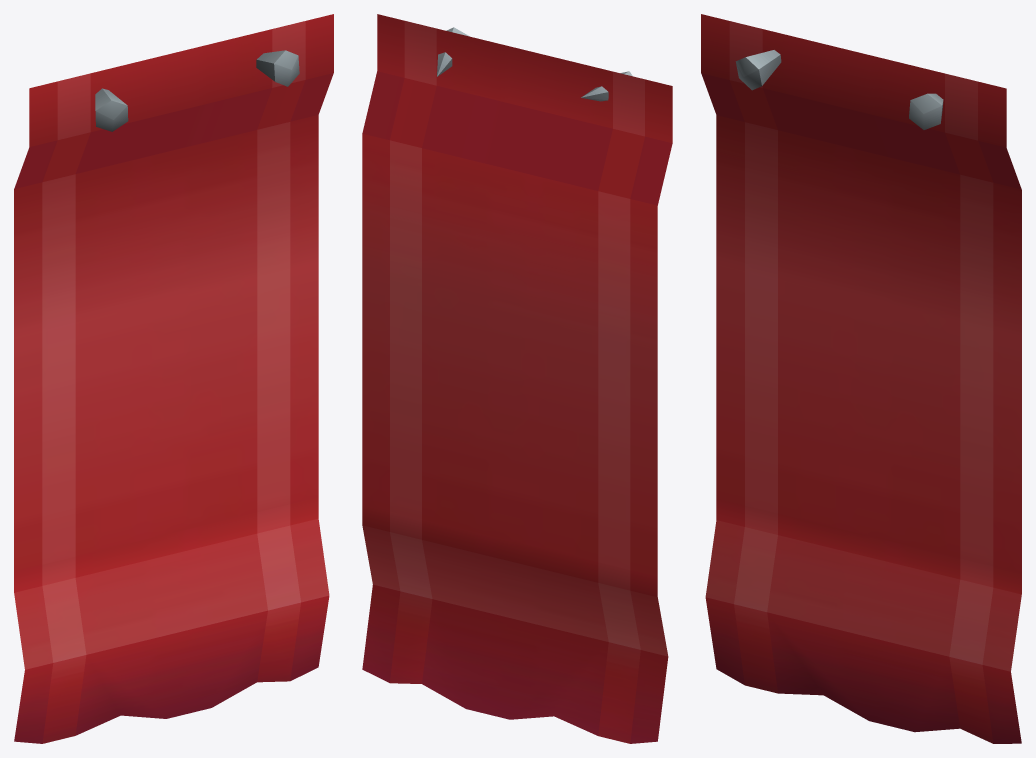
The model's file is banner_red.glb.
3 views of the same model, side by side, from view 1: azimuth 30°, elevation 25°; view 2: azimuth 150°, elevation 25°; view 3: azimuth 330°, elevation 25° (orthographic). The views are drawn at different scales.
Parts seen in each view (by area): view 1: banner_red; view 2: banner_red; view 3: banner_red.
Part boxes in pixels (bbox=[...]): banner_red: bbox=[14, 14, 333, 743]; banner_red: bbox=[362, 14, 672, 743]; banner_red: bbox=[701, 14, 1021, 743].
Size of the model in its own units: 1.5 by 3.2 by 0.3117.
Materials: 1 (1 with a texture image).
